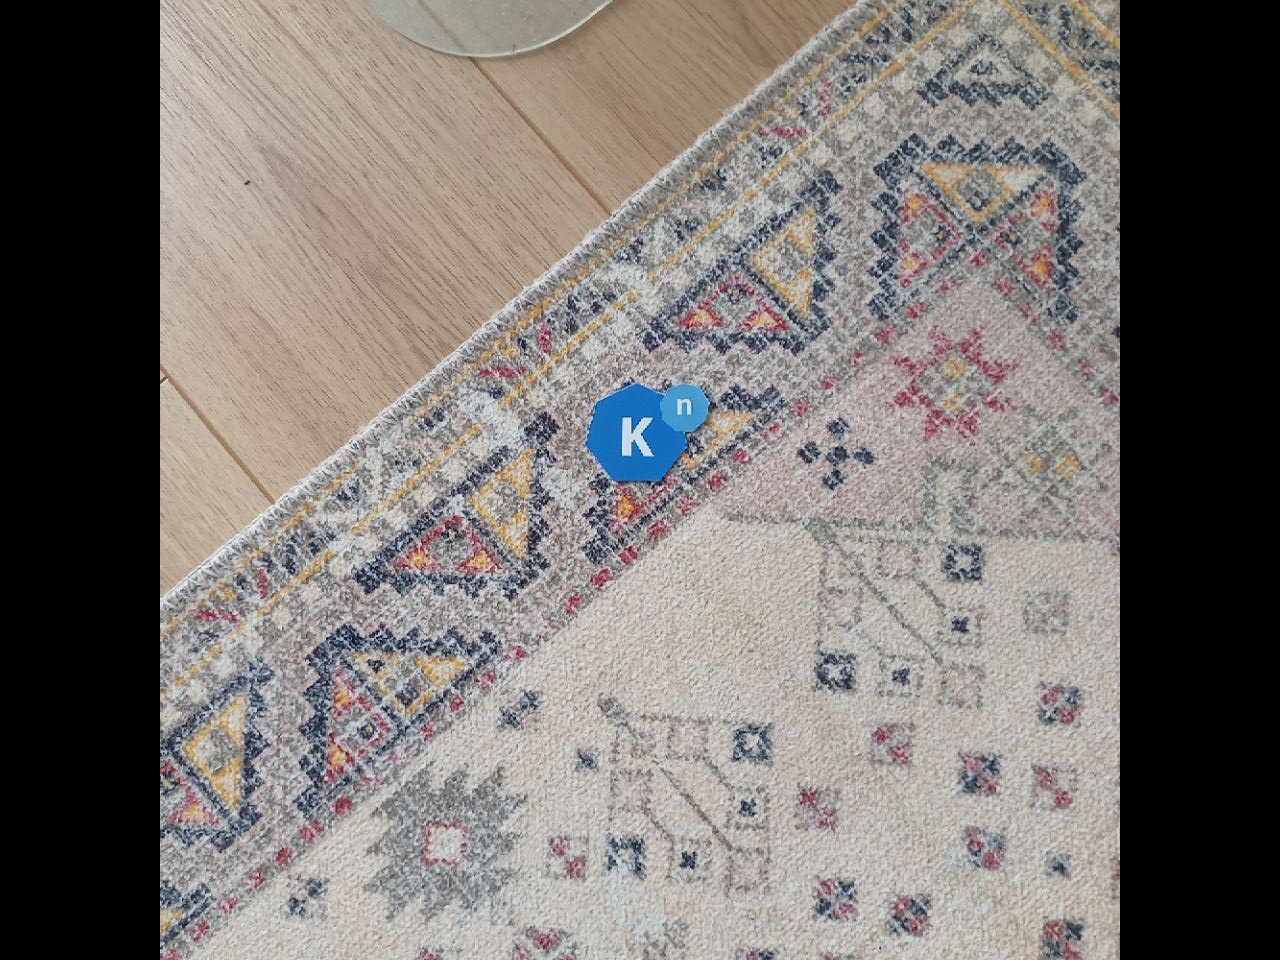knative: (582, 383, 712, 484)
